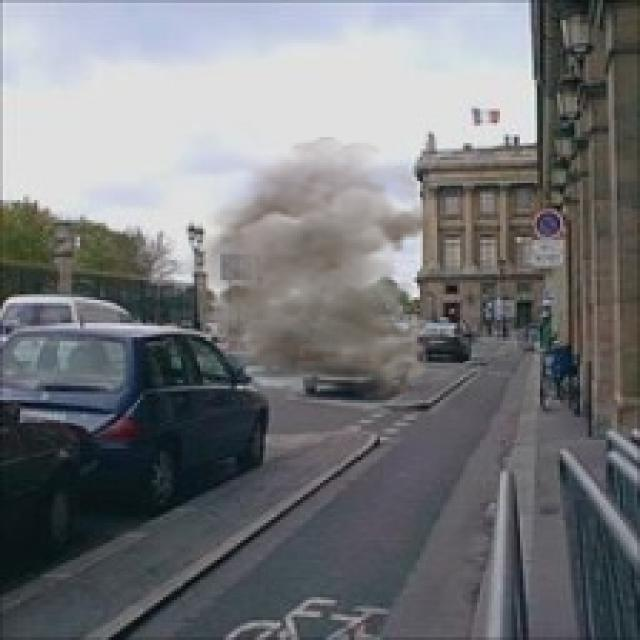smoke: (174, 137, 440, 403)
